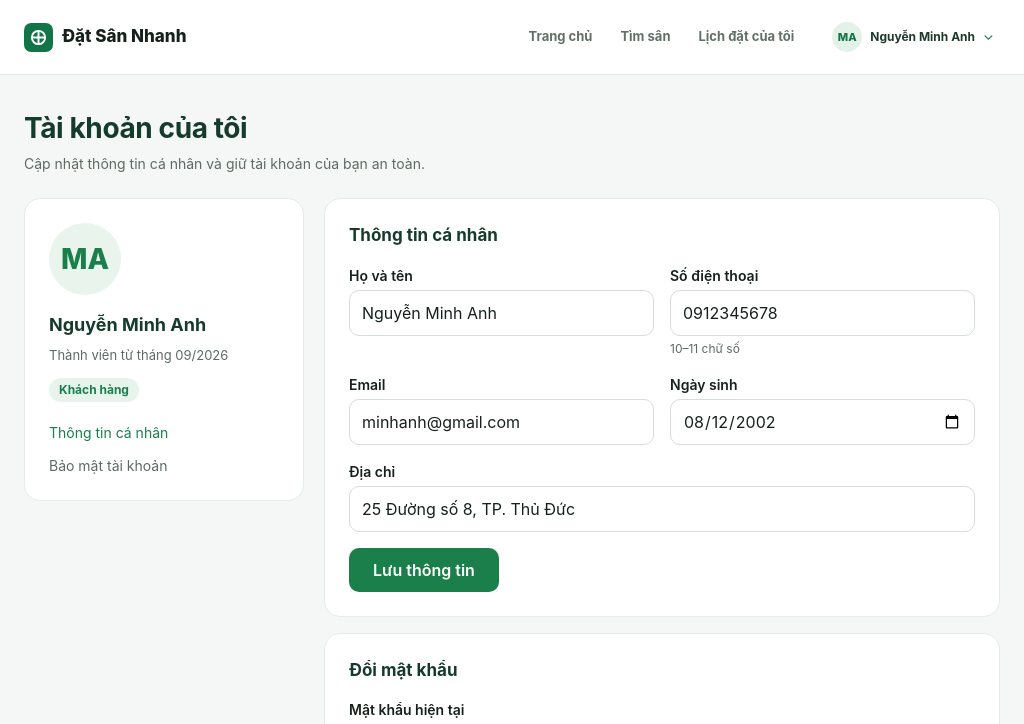
AccountPage › hiện lỗi từ server (email đã được dùng)
Replace the text in the field labelled "Email" with "khac@gmail.com" at coordinates (502, 422), box [350,400,653,444]
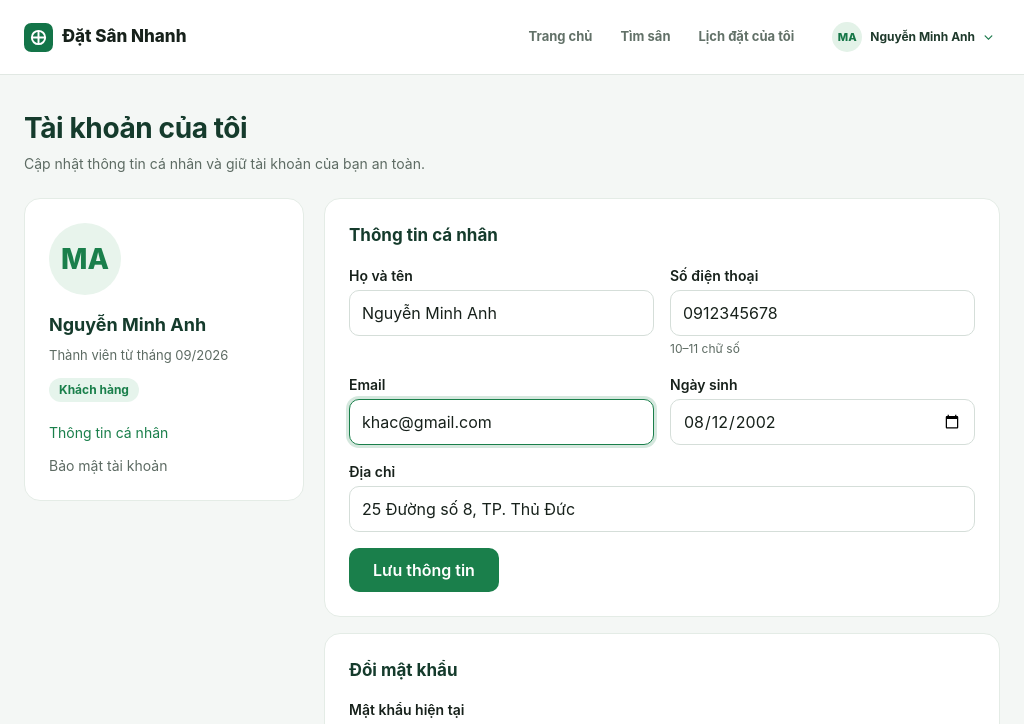
Click the button "Lưu thông tin" at coordinates (424, 570), box [349,548,499,592]
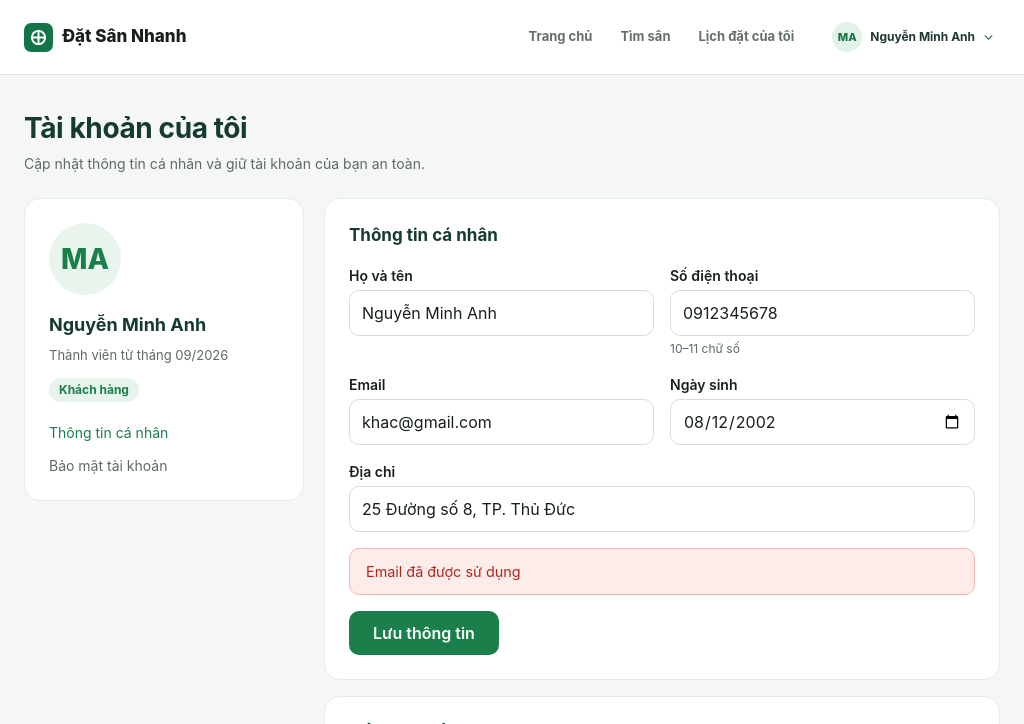
Check: the text "Email đã được sử dụng" is shown, box [349,548,975,595]
